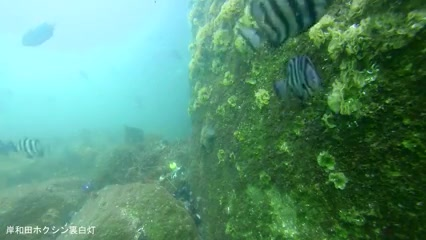ishidai: (274, 54, 321, 101)
